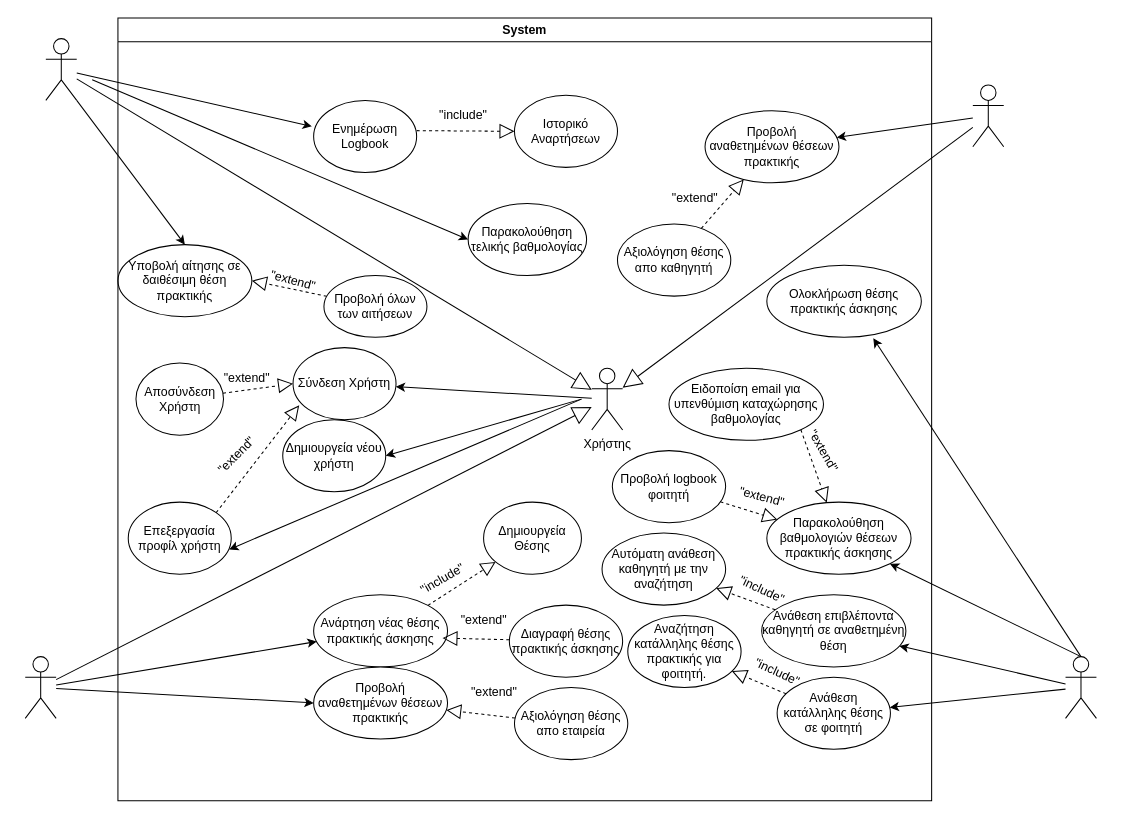
Some shapes in this 1147 by 819 pixel diagram are drawn without their labels. The box of each missing label's shape, as (x1, y1, x2, y2) in pixels:
Εταιρεία: (24, 656, 56, 718)
Καθηγητής: (972, 84, 1004, 147)
Μέλος Επιτροπής: (1065, 656, 1096, 718)
Φοιτητής: (45, 38, 77, 100)
